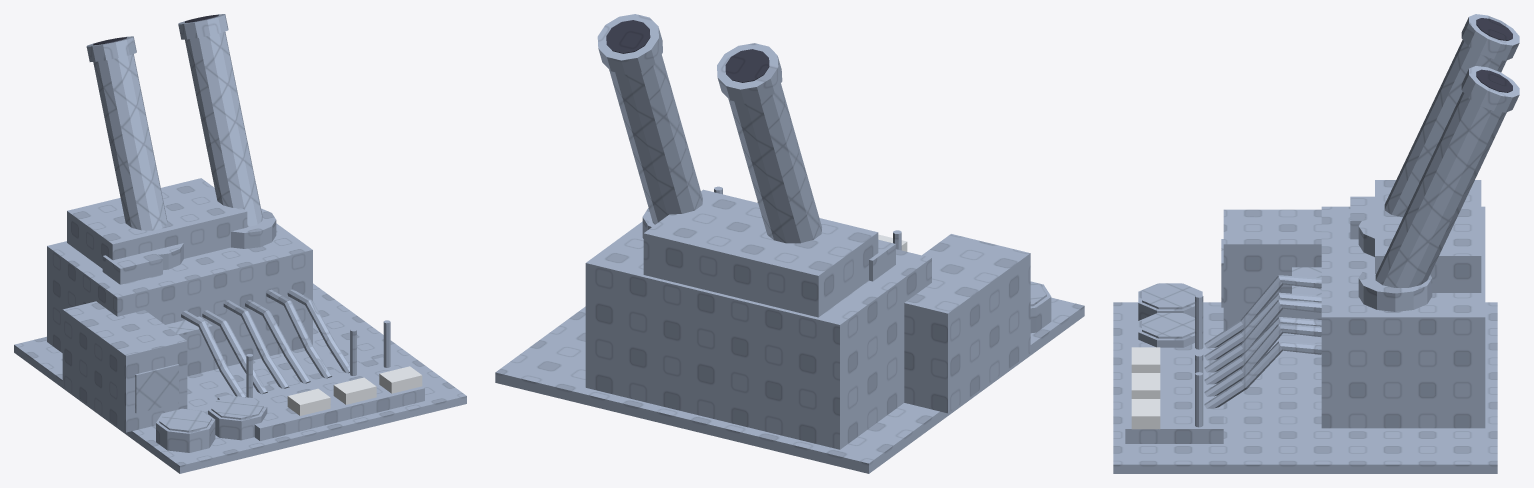
The model's file is Centrale_Tuyaux.glb.
3 renders of one model, left to right at view 1: azimuth 30°, elevation 25°; view 2: azimuth 150°, elevation 25°; view 3: azimuth 270°, elevation 25°, orthographic. The views are drawn at different scales.
Visible parts, largest first — view 1: Centrale_Tuyaux; view 2: Centrale_Tuyaux; view 3: Centrale_Tuyaux.
Boxes of the visible parts, box(x1,y1,x2,y2) form: Centrale_Tuyaux: box(14, 14, 466, 473); Centrale_Tuyaux: box(495, 14, 1084, 473); Centrale_Tuyaux: box(1113, 14, 1519, 473).
Bounding box in the file's own units: 9.6 × 9.31 × 9.94.
Materials: 4 (3 with a texture image).
